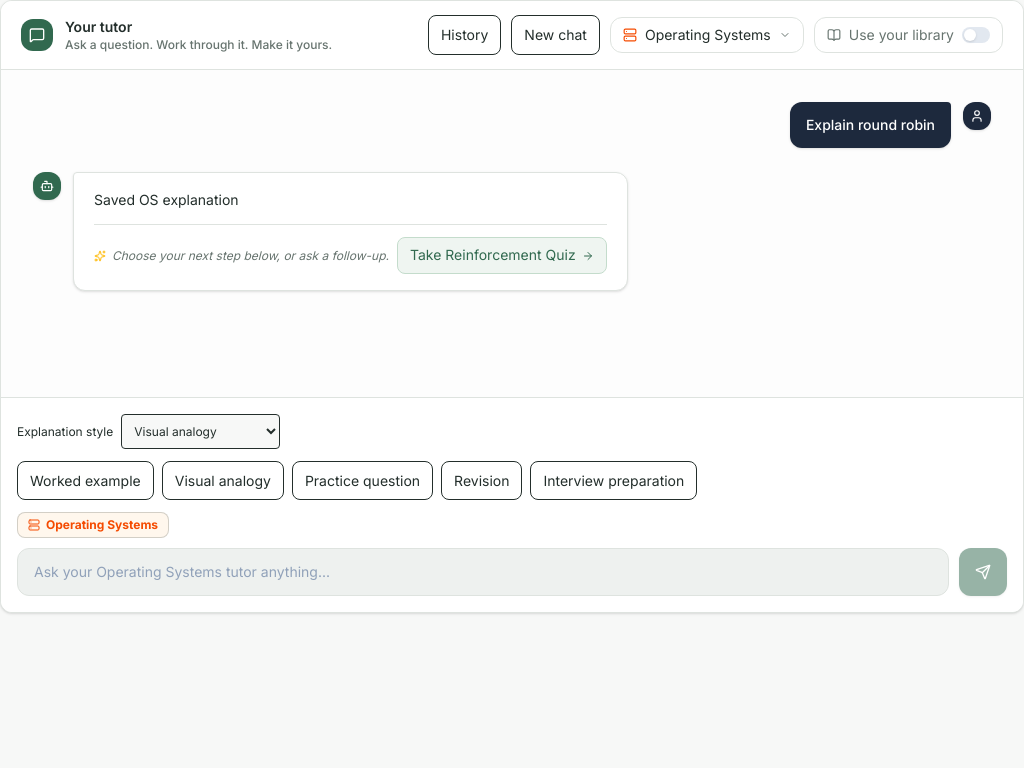
Test: confirms deletion, clears the active conversation and supports undo
Expected: the text "Saved OS explanation" is shown, [94, 191, 239, 208]
Click the button "History" at (465, 35), box [428, 15, 501, 55]
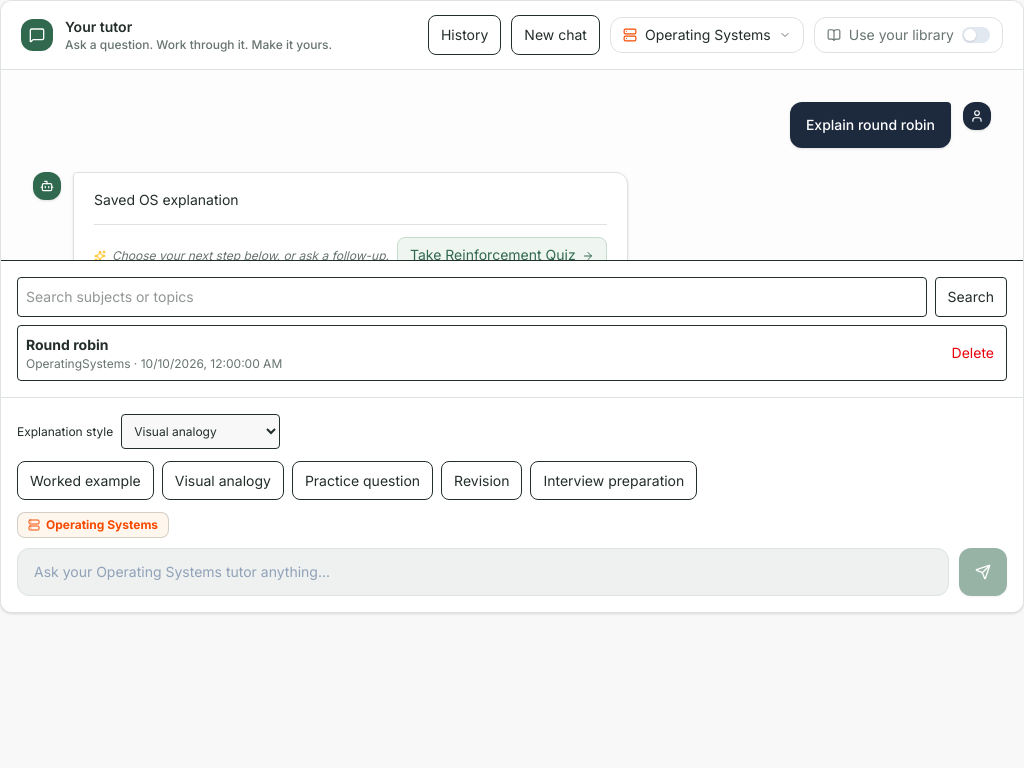
Click the button with aria-label "Delete Round robin" at (973, 353), box [940, 334, 1006, 372]
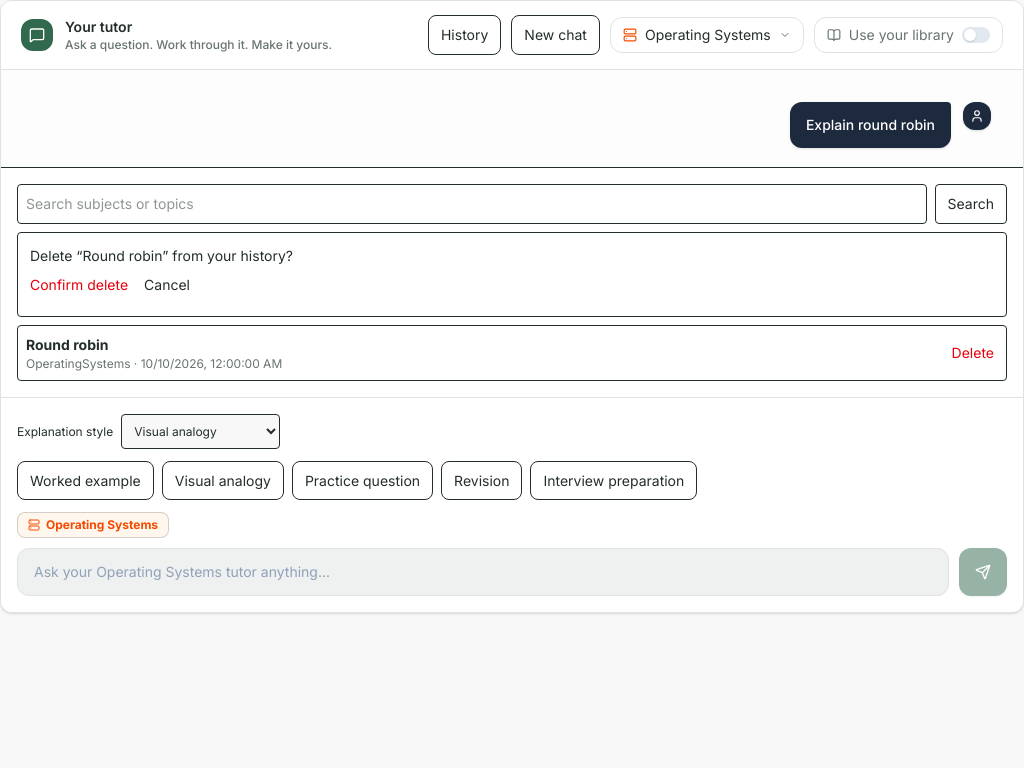
Click the button "Confirm delete" at (79, 285), box [30, 274, 128, 296]
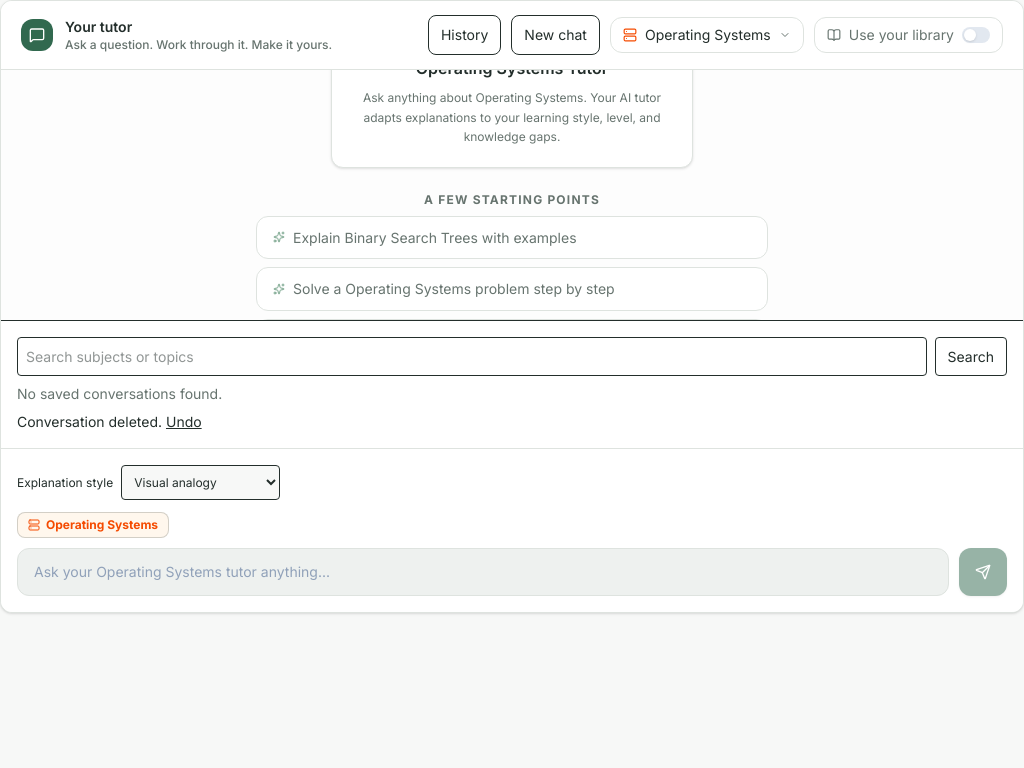
Expected: the text "Saved OS explanation" is not shown
Now the text "No saved conversations found." is shown, box [17, 385, 222, 402]
Click the button "Undo" at (184, 422), box [166, 412, 202, 432]
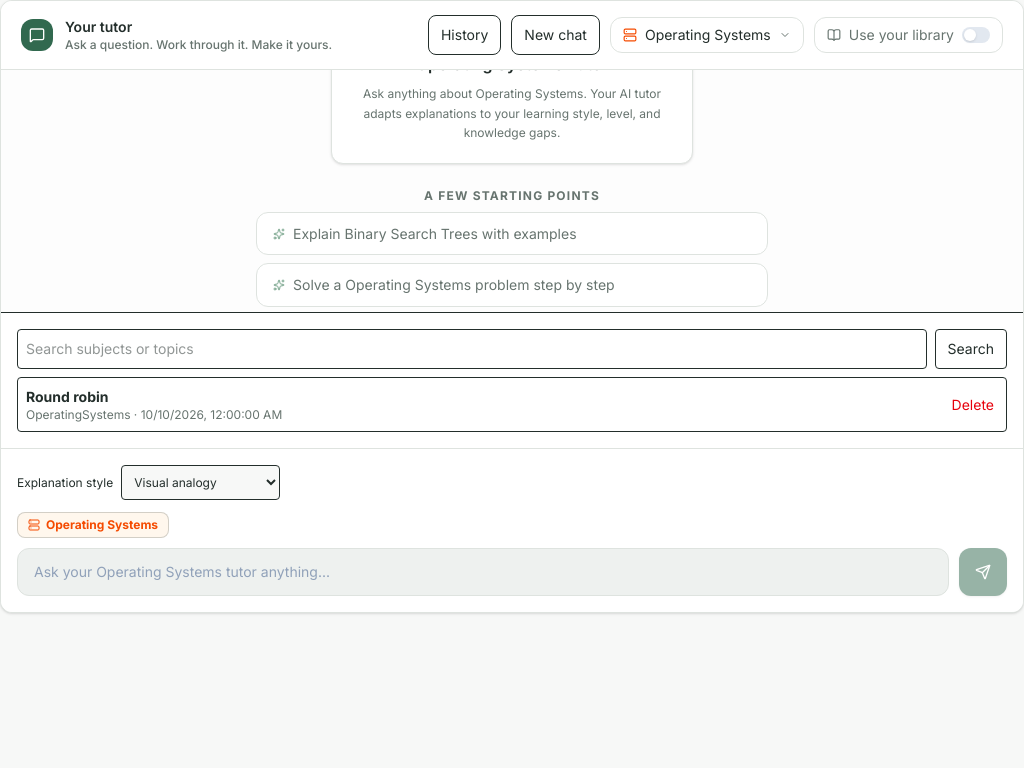
Now the button "Round robin OperatingSystems · 10/10/2026, 12:00:00 AM" is shown, box [18, 378, 932, 431]
